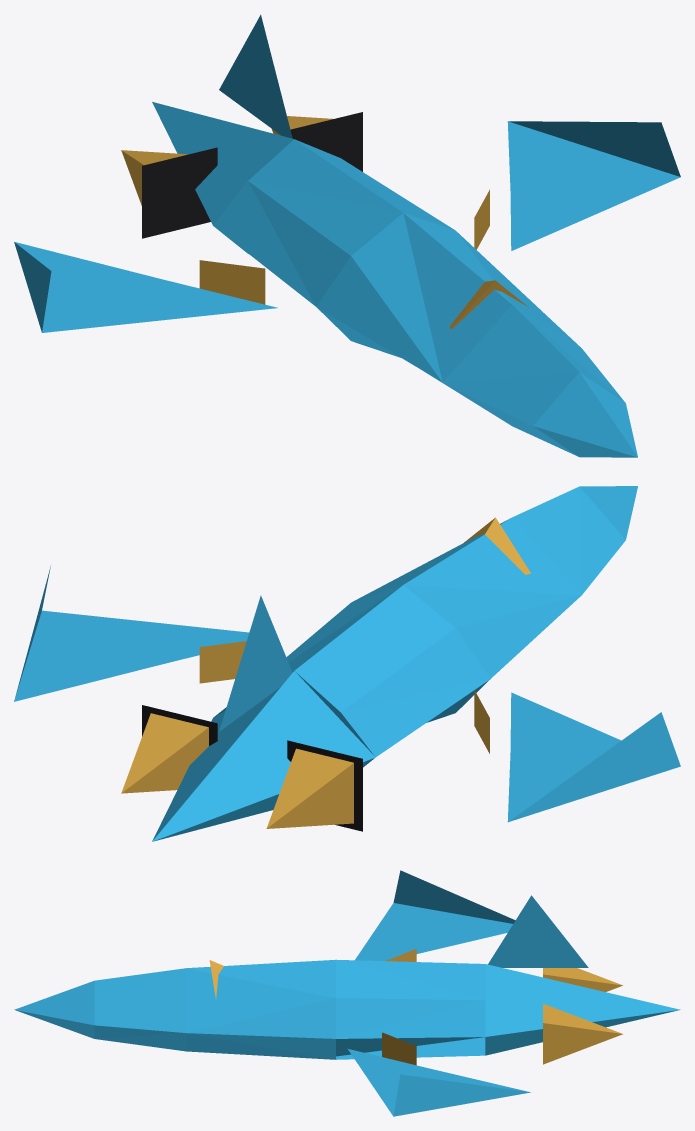
Rendered from spaceship_detailed.obj.
3 views of the same model, one above another, from view 1: azimuth 30°, elevation 25°; view 2: azimuth 150°, elevation 25°; view 3: azimuth 270°, elevation 25° (orthographic). The views are drawn at different scales.
Parts seen in each view (by area): view 1: hull, wings, nozzles, winglets, fin, intakes, engines, cockpit; view 2: hull, wings, engines, winglets, fin, intakes, nozzles, cockpit; view 3: hull, wings, winglets, fin, engines, intakes.
Part boxes in pixels (x1,y1,x2,y2): hull: [152, 102, 637, 457]; wings: [15, 121, 680, 332]; nozzles: [142, 112, 362, 238]; winglets: [14, 121, 680, 332]; fin: [219, 14, 292, 138]; intakes: [199, 189, 489, 304]; engines: [121, 116, 332, 205]; cockpit: [449, 280, 528, 328]; hull: [152, 486, 637, 841]; wings: [14, 610, 621, 821]; engines: [121, 713, 353, 828]; winglets: [15, 566, 680, 822]; fin: [219, 595, 292, 731]; intakes: [199, 641, 489, 753]; nozzles: [142, 705, 362, 831]; cockpit: [464, 517, 530, 574]; hull: [14, 959, 680, 1059]; wings: [348, 903, 529, 1116]; winglets: [393, 870, 530, 1116]; fin: [488, 895, 588, 967]; engines: [543, 968, 622, 1064]; intakes: [382, 949, 416, 1065].
Bounding box in the file's own units: 2.2 × 0.79 × 2.9.
